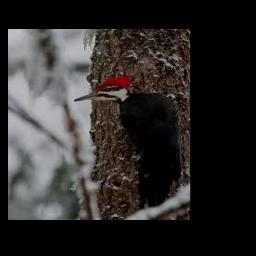Woodpecker: (74, 75, 178, 208)
